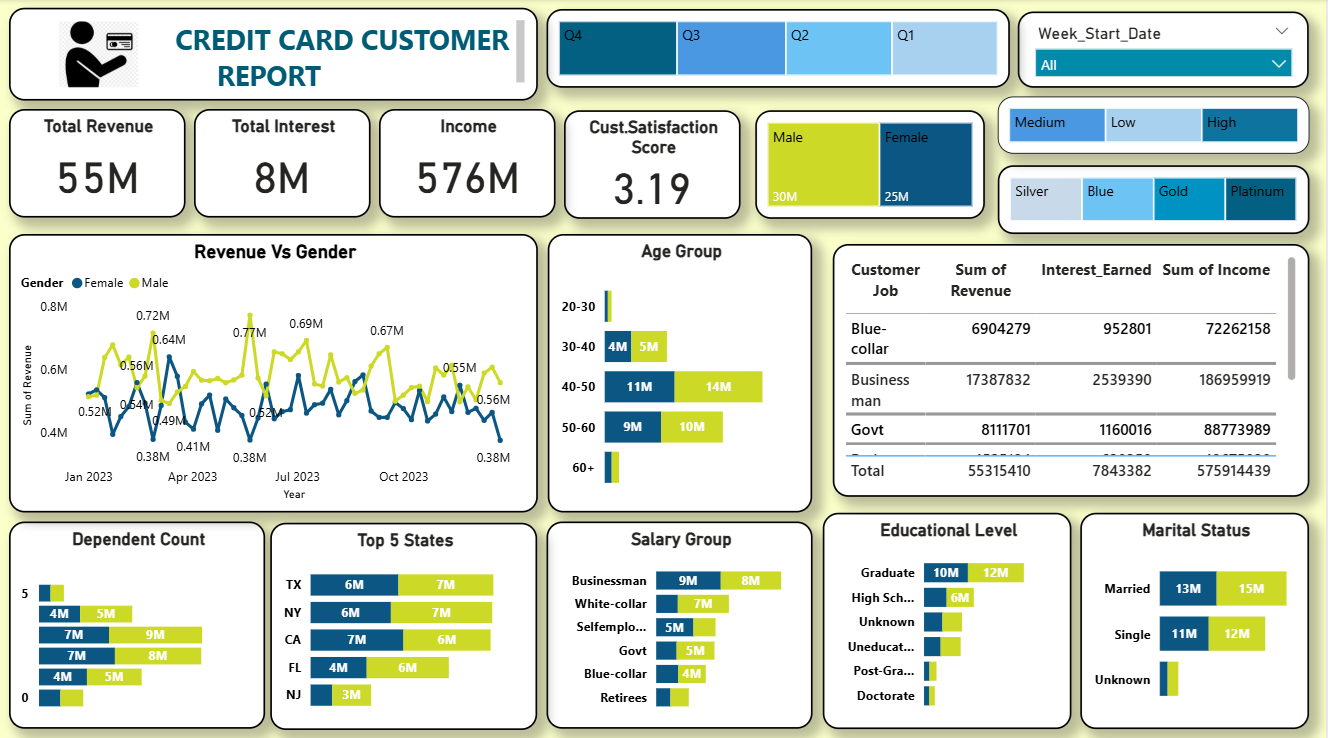

Layout of this report page (visuals, bound fields, positions):
{"tool":"powerbi","page":{"name":"Customer","canvas":[1280,720],"ordinal":1},"visuals":[{"type":"slicer","fields":{"Values":["credit_card.Week_Start_Date"]},"box":[983.2,12.1,281.1,73.6],"z":0},{"type":"treemap","fields":{"Group":["credit_card.Qtr"],"Values":["Avg(credit_card.Client_Num)"]},"box":[528.4,9.7,447.6,76],"z":1000},{"type":"treemap","fields":{"Group":["customer.Gender"],"Values":["Sum(credit_card.Revenue)"]},"box":[729.9,107.4,222,105],"z":2000},{"type":"treemap","fields":{"Values":["Avg(credit_card.Client_Num)"],"Group":["credit_card.Card_Category"]},"box":[963.9,160.5,300.4,66.4],"z":3000},{"type":"treemap","fields":{"Group":["customer.Income_group"],"Values":["Avg(credit_card.Client_Num)"]},"box":[963.9,94.1,300.4,55.5],"z":4000},{"type":"textbox","box":[9.7,8.4,510.3,89.3],"z":5000},{"type":"barChart","title":"Dependent Count","fields":{"Y":["Sum(credit_card.Revenue)"],"Category":["customer.Dependent_Count"],"Series":["customer.Gender"]},"box":[9.7,504.3,247.3,200.3],"z":6000},{"type":"tableEx","fields":{"Values":["customer.Customer_Job","Sum(credit_card.Revenue)","Sum(credit_card.Interest_Earned)","Sum(customer.Income)"]},"box":[804.7,236.5,459.7,243.7],"z":7000},{"type":"card","title":"Total Revenue","fields":{"Values":["Sum(credit_card.Revenue)"]},"box":[9.7,106.2,170.1,105],"z":8000},{"type":"card","title":"Total Interest","fields":{"Values":["Sum(credit_card.Interest_Earned)"]},"box":[188.2,106.2,170.1,105],"z":9000},{"type":"card","title":"Cust.Satisfaction Score","fields":{"Values":["Avg(customer.Cust_Satisfaction_Score)"]},"box":[545.3,107.4,170.1,105],"z":10000},{"type":"card","title":"Income","fields":{"Values":["Sum(customer.Income)"]},"box":[366.8,106.2,170.1,105],"z":11000},{"type":"lineChart","title":"Revenue Vs Gender","fields":{"Y":["Sum(credit_card.Revenue)"],"Series":["customer.Gender"],"Category":["credit_card.Week_Start_Date.Variation.Date Hierarchy.Year","credit_card.Week_Start_Date.Variation.Date Hierarchy.Month","credit_card.Week_Start_Date.Variation.Date Hierarchy.Day"]},"box":[9.6,226.4,510.5,269],"z":12000},{"type":"barChart","title":"Age Group","fields":{"Y":["Sum(credit_card.Revenue)"],"Category":["customer.Age_group"],"Series":["customer.Gender"]},"box":[529.7,226.4,255.2,269],"z":13000},{"type":"barChart","title":"Salary Group","fields":{"Y":["Sum(credit_card.Revenue)"],"Category":["customer.Customer_Job"],"Series":["customer.Gender"]},"box":[528.4,504.3,257,200.3],"z":14000},{"type":"barChart","title":"Educational Level","fields":{"Y":["Sum(credit_card.Revenue)"],"Category":["customer.Education_Level"],"Series":["customer.Gender"]},"box":[794.5,495.4,240.1,208.6],"z":15000},{"type":"barChart","title":"Marital Status","fields":{"Y":["Sum(credit_card.Revenue)"],"Category":["customer.Marital_Status"],"Series":["customer.Gender"]},"box":[1043.6,495.8,220.8,208.7],"z":16000},{"type":"barChart","title":"Top 5 States","fields":{"Y":["Sum(credit_card.Revenue)"],"Category":["customer.state_cd"],"Series":["customer.Gender"]},"box":[262.1,505,258,200.3],"z":17000},{"type":"image","box":[33.8,16.9,124.3,73.6],"z":18000}]}

Visuals, with their boxes in screenshot pixels (x1, y1, x2, y2), scaled from the page's 1280x720 canvas onto the 1328x738 screenshot:
slicer - credit_card.Week_Start_Date: Rect(1020, 12, 1312, 88)
treemap - credit_card.Qtr x Avg(credit_card.Client_Num): Rect(548, 10, 1013, 88)
treemap - customer.Gender x Sum(credit_card.Revenue): Rect(757, 110, 988, 218)
treemap - Avg(credit_card.Client_Num) x credit_card.Card_Category: Rect(1000, 165, 1312, 233)
treemap - customer.Income_group x Avg(credit_card.Client_Num): Rect(1000, 96, 1312, 153)
textbox: Rect(10, 9, 540, 100)
"Dependent Count" barChart: Rect(10, 517, 267, 722)
tableEx - customer.Customer_Job x Sum(credit_card.Revenue): Rect(835, 242, 1312, 492)
"Total Revenue" card: Rect(10, 109, 187, 216)
"Total Interest" card: Rect(195, 109, 372, 216)
"Cust.Satisfaction Score" card: Rect(566, 110, 742, 218)
"Income" card: Rect(381, 109, 557, 216)
"Revenue Vs Gender" lineChart: Rect(10, 232, 540, 508)
"Age Group" barChart: Rect(550, 232, 814, 508)
"Salary Group" barChart: Rect(548, 517, 815, 722)
"Educational Level" barChart: Rect(824, 508, 1073, 722)
"Marital Status" barChart: Rect(1083, 508, 1312, 722)
"Top 5 States" barChart: Rect(272, 518, 540, 723)
image: Rect(35, 17, 164, 93)
